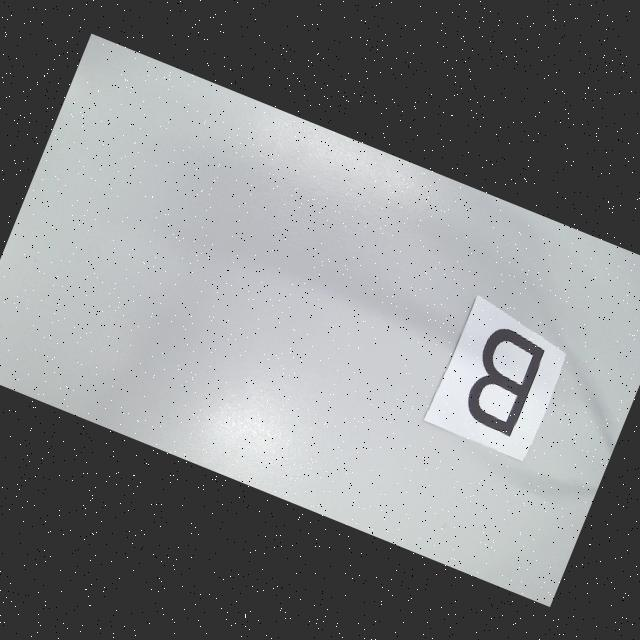FAKE: (455, 323, 548, 438)
